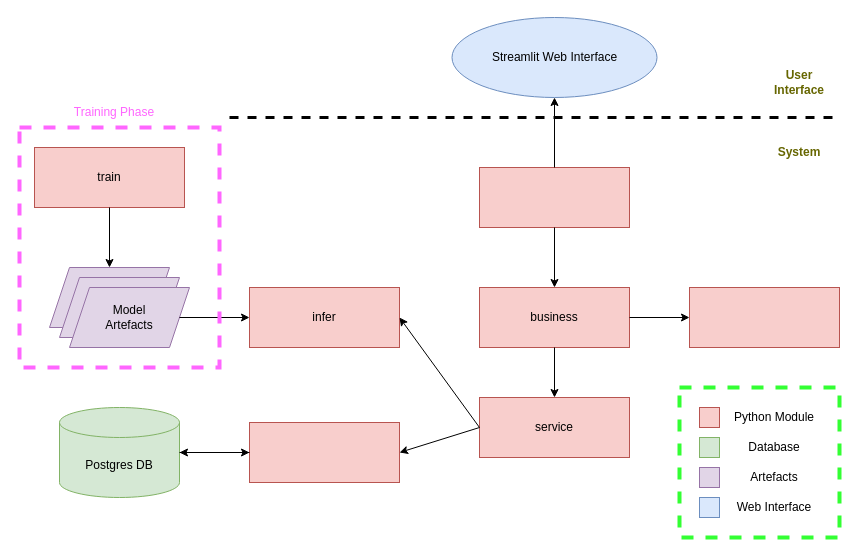
Some shapes in this 859 by 557 pixel diagram are drawn without their labels. Each missing label, with the centre of its shape:
app: the point at 554,197
db: the point at 324,452
helpers: the point at 764,317
